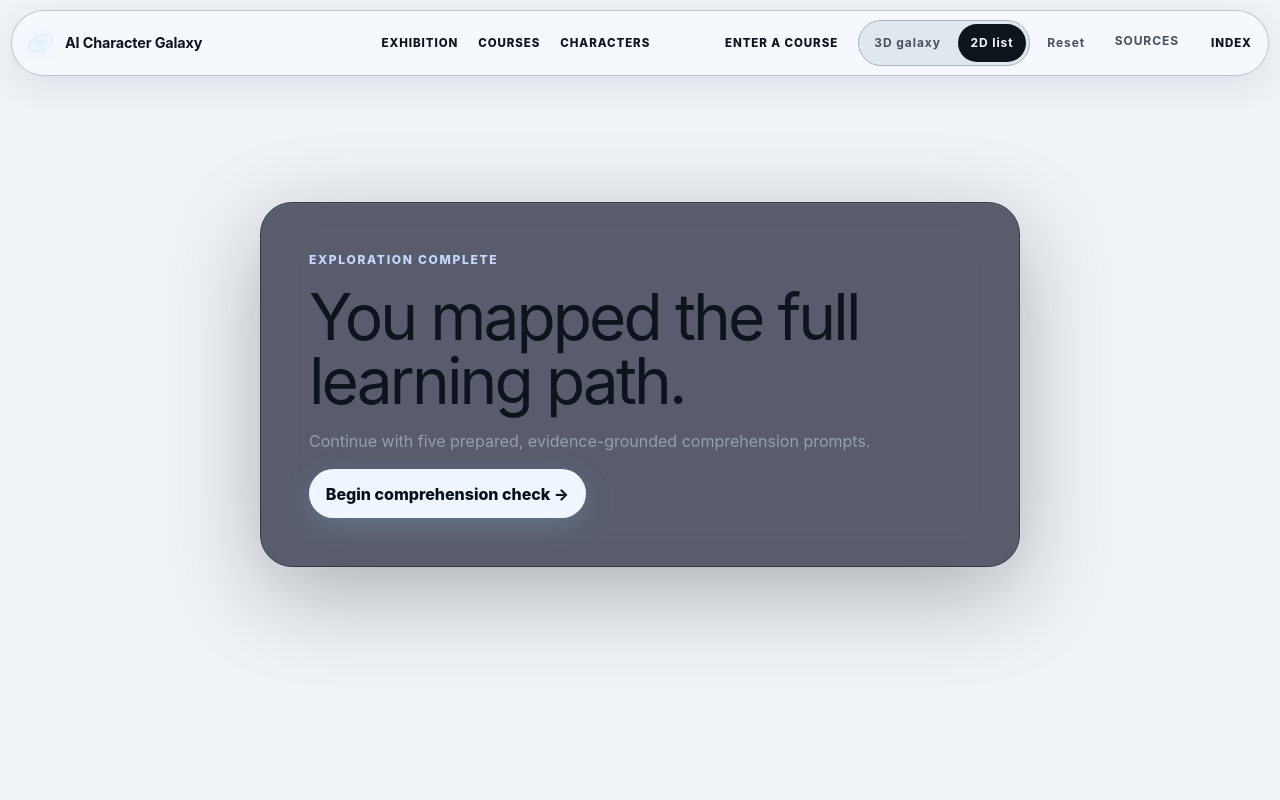
it: LearningExperience › offers prepared assessment and discoveries after all missions
Click the button "Begin comprehension check →": (447, 494) [309,469,586,518]
(page scrolled)
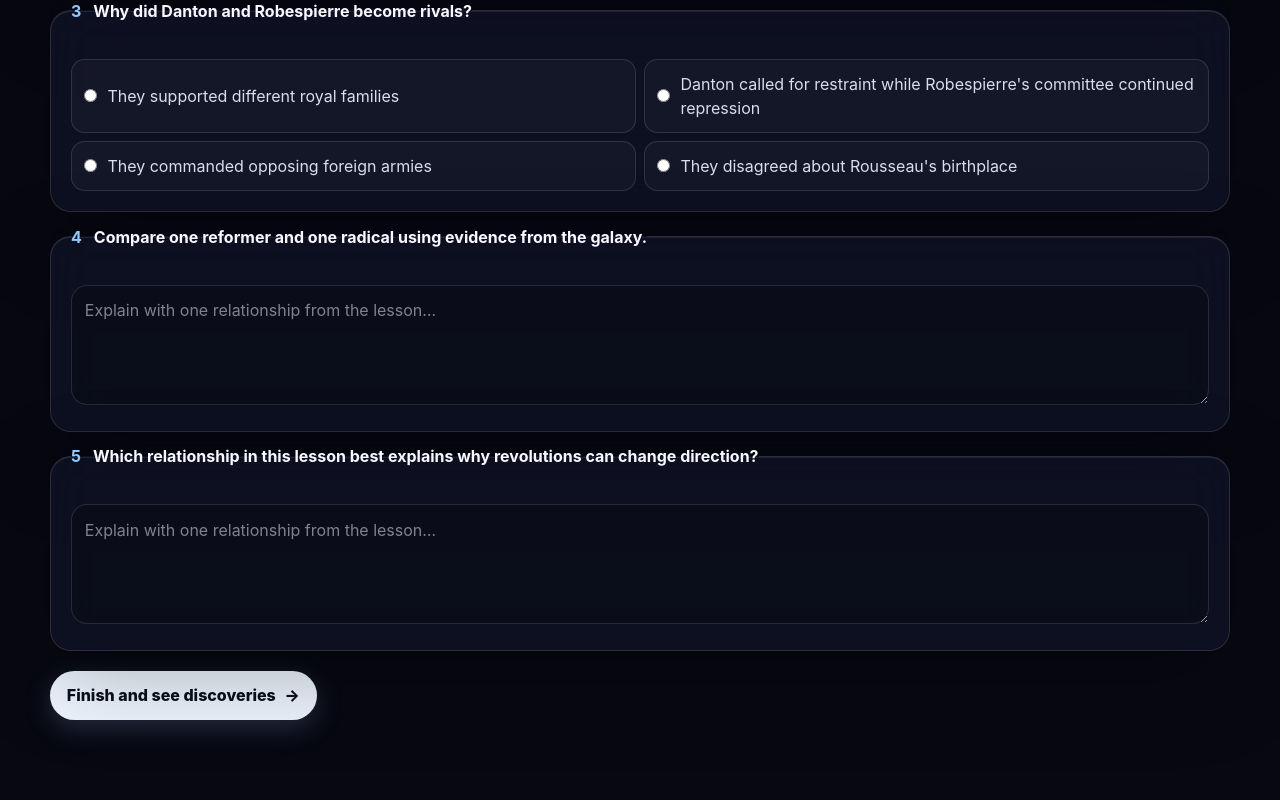
Click the button "Finish and see discoveries →": (183, 695) [50,671,317,720]
(page scrolled)
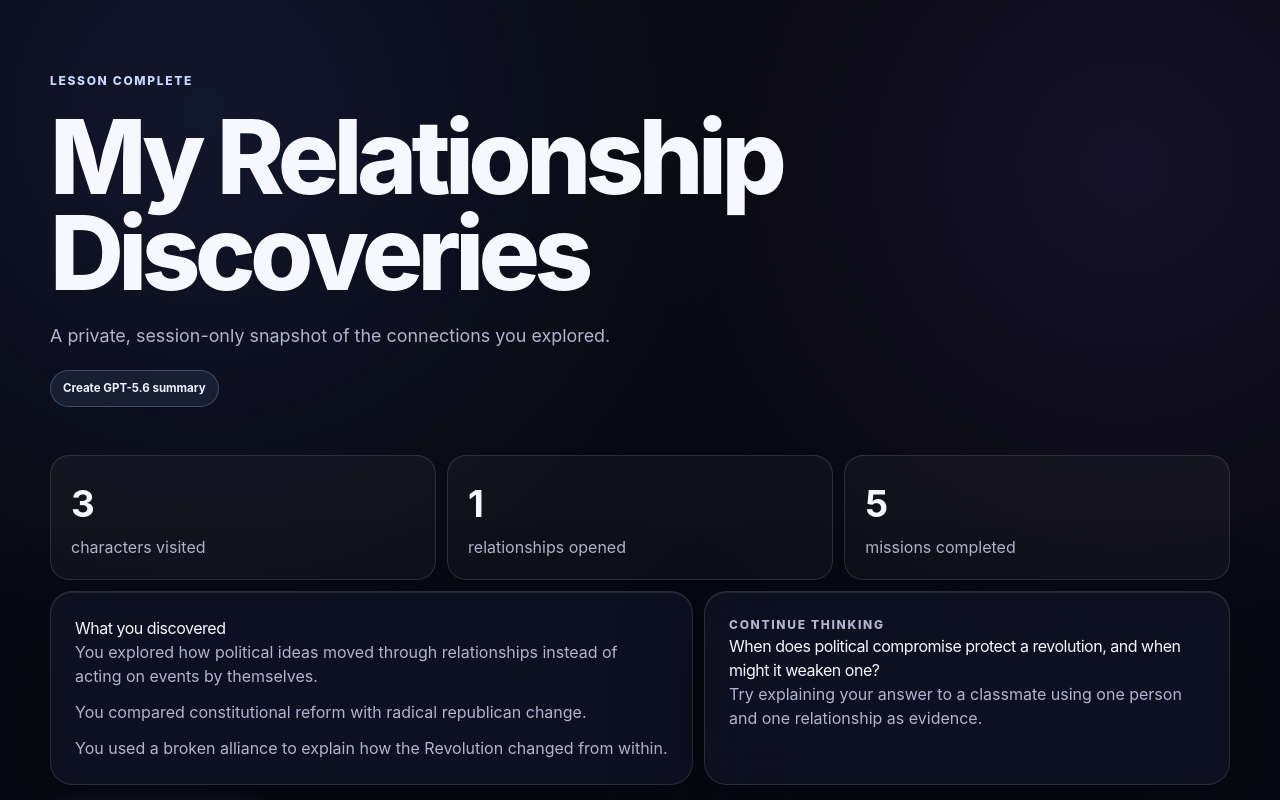
Now the heading "My Relationship Discoveries" is shown, box [50,109,900,302]
